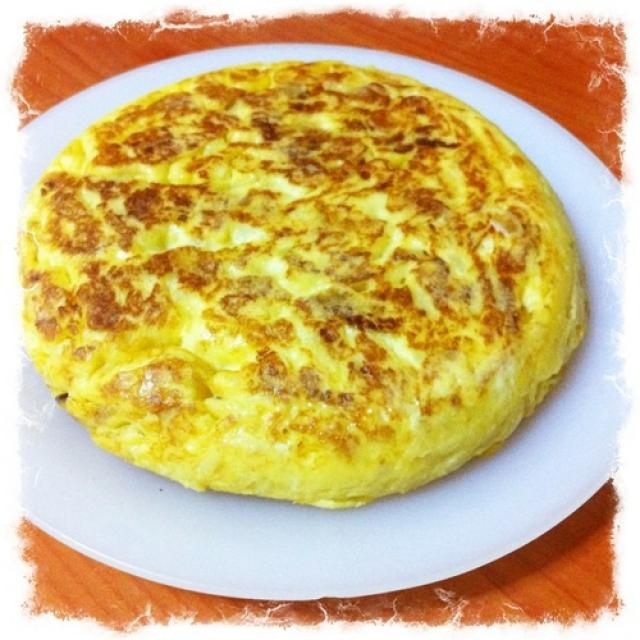面包点心: (41, 74, 576, 490)
